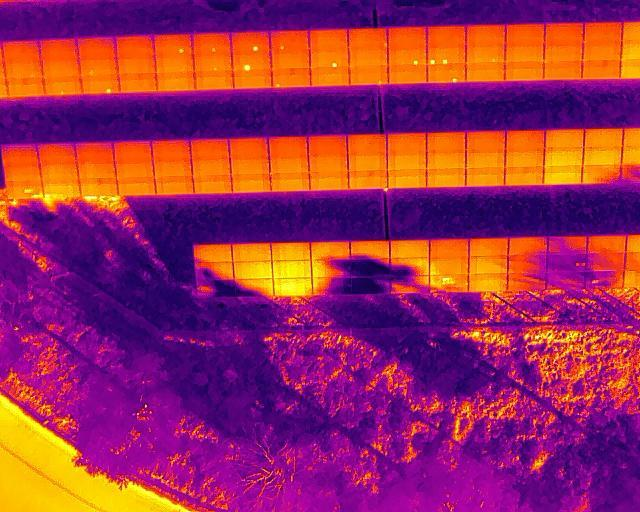Cell: (269, 30, 308, 54), (349, 28, 388, 51), (154, 34, 193, 55), (192, 33, 231, 54), (231, 33, 269, 54), (272, 69, 311, 88), (428, 65, 466, 83), (194, 53, 232, 71), (310, 51, 348, 69), (81, 76, 118, 94), (349, 68, 388, 85), (232, 54, 271, 71), (388, 49, 426, 66), (45, 77, 82, 94)
Cell-Multi: (427, 49, 466, 66), (6, 180, 42, 198)
No-Anomaly: (388, 27, 427, 50), (428, 26, 466, 49), (545, 22, 584, 44), (116, 36, 154, 58), (310, 29, 348, 51), (151, 139, 190, 160), (2, 41, 41, 62), (466, 25, 505, 46), (506, 25, 545, 46), (115, 141, 152, 163), (41, 39, 78, 61), (191, 139, 229, 160), (0, 144, 39, 164), (76, 143, 115, 163), (269, 135, 308, 155), (308, 135, 347, 155), (426, 132, 465, 152), (466, 131, 505, 151), (156, 71, 195, 91), (584, 23, 623, 43), (78, 39, 115, 60), (311, 241, 351, 260), (390, 239, 430, 258), (388, 133, 426, 153), (195, 71, 233, 91), (233, 260, 272, 279), (232, 242, 271, 261), (430, 239, 469, 258), (270, 172, 309, 191), (310, 171, 349, 190), (387, 169, 426, 188), (426, 168, 465, 187), (348, 134, 387, 153), (388, 65, 427, 84), (465, 63, 504, 82), (38, 144, 75, 164), (271, 242, 312, 260), (194, 244, 232, 263), (117, 176, 155, 195), (193, 174, 231, 193), (466, 167, 504, 186), (192, 156, 230, 175), (6, 78, 44, 97), (505, 62, 543, 81), (544, 61, 582, 80), (582, 60, 620, 79), (272, 277, 312, 295), (272, 260, 312, 278), (508, 237, 548, 255), (228, 139, 268, 157), (506, 131, 546, 149), (79, 177, 116, 196), (232, 174, 269, 193), (118, 74, 155, 93), (469, 239, 508, 257), (349, 170, 388, 188), (504, 166, 543, 184), (544, 165, 583, 183), (506, 149, 545, 167), (583, 147, 622, 165), (584, 130, 623, 148), (232, 71, 271, 89), (583, 42, 622, 60), (469, 273, 507, 291), (430, 257, 468, 275), (155, 176, 193, 194), (231, 156, 269, 174), (349, 152, 387, 170), (545, 148, 583, 166), (546, 130, 584, 148), (311, 68, 349, 86), (349, 51, 387, 69), (587, 235, 627, 252), (466, 46, 506, 63), (470, 256, 507, 274), (2, 163, 41, 180), (270, 155, 309, 172), (309, 154, 348, 171), (387, 152, 426, 169), (427, 152, 466, 169), (4, 61, 43, 78), (505, 45, 544, 62), (544, 44, 583, 61), (42, 60, 80, 77), (80, 59, 118, 76), (153, 160, 192, 176), (466, 151, 505, 167), (41, 163, 77, 180), (118, 58, 156, 74), (156, 54, 194, 70), (78, 163, 115, 178), (116, 162, 153, 177), (271, 54, 309, 68)
Shadowing: (547, 252, 586, 273), (507, 255, 547, 274), (581, 165, 621, 184), (586, 252, 625, 271), (196, 281, 236, 299), (311, 260, 351, 278), (390, 258, 430, 276), (352, 276, 391, 294), (586, 271, 625, 289), (194, 262, 233, 280), (351, 241, 390, 259), (236, 278, 274, 296), (391, 275, 429, 293), (352, 259, 390, 277), (312, 277, 351, 294), (546, 272, 585, 289), (548, 237, 587, 254), (508, 274, 547, 290)
Unclassified: (430, 274, 468, 292), (43, 179, 79, 197)
